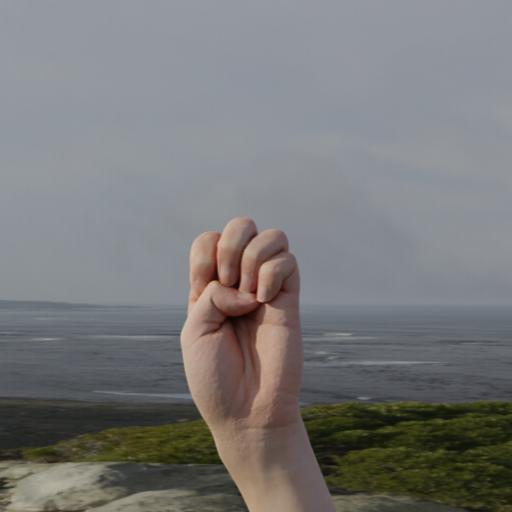E: (176, 215, 314, 433)
